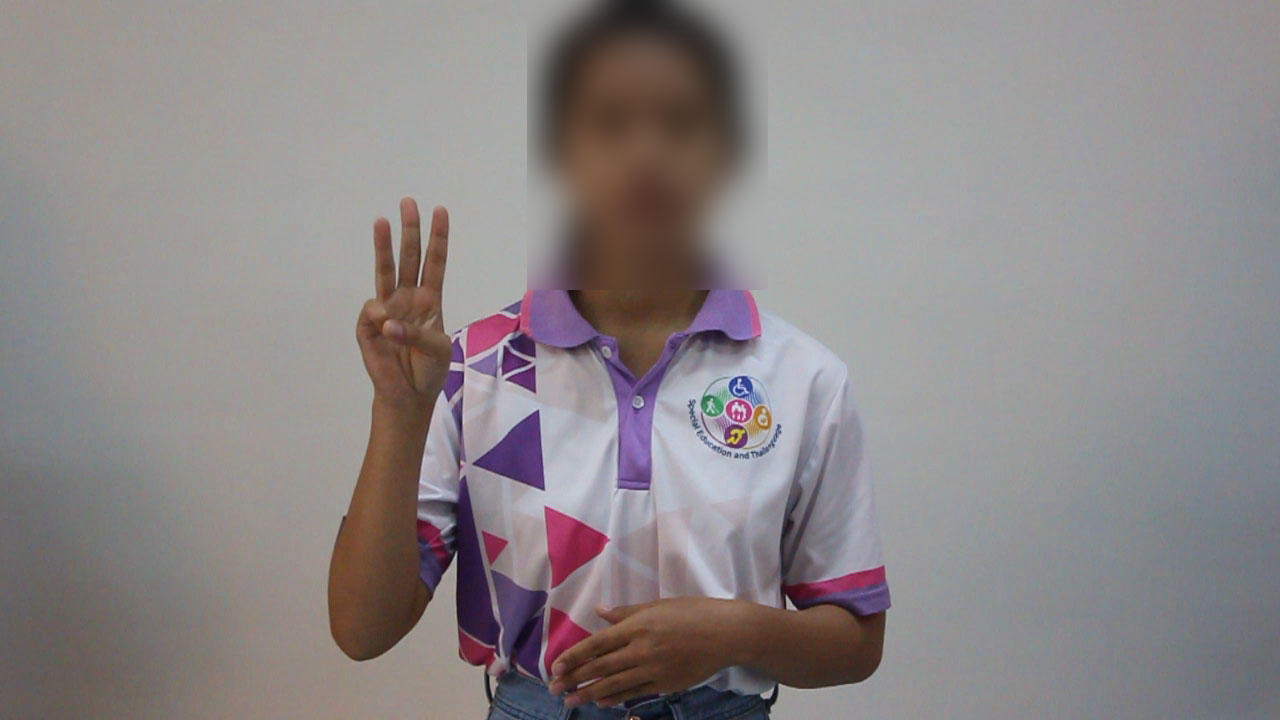wor: (349, 187, 464, 417)
